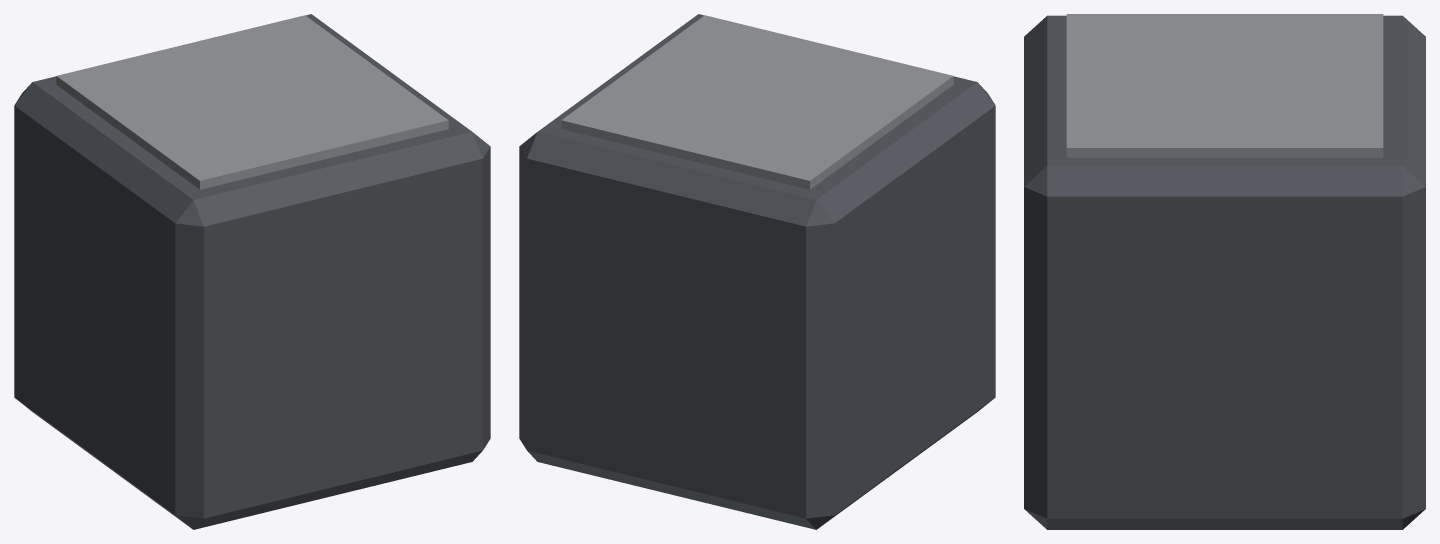
The picture shows the model from 3 angles, left to right: view 1: azimuth 30°, elevation 25°; view 2: azimuth 150°, elevation 25°; view 3: azimuth 270°, elevation 25°; orthographic projection. The views are drawn at different scales.
Visible parts, largest first — view 1: box; view 2: box; view 3: box.
Boxes of the visible parts, x1=… form: box: x1=14, y1=14, x2=490, y2=529; box: x1=519, y1=14, x2=995, y2=529; box: x1=1024, y1=14, x2=1425, y2=529.
Size of the model in its own units: 0.325 by 0.3337 by 0.325.
